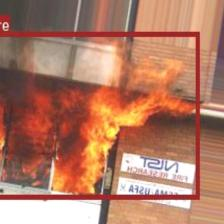fire: (0, 30, 198, 198)
